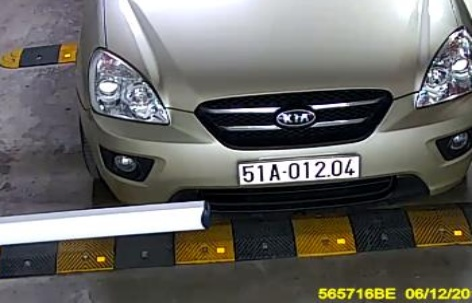plate: (234, 151, 364, 193)
